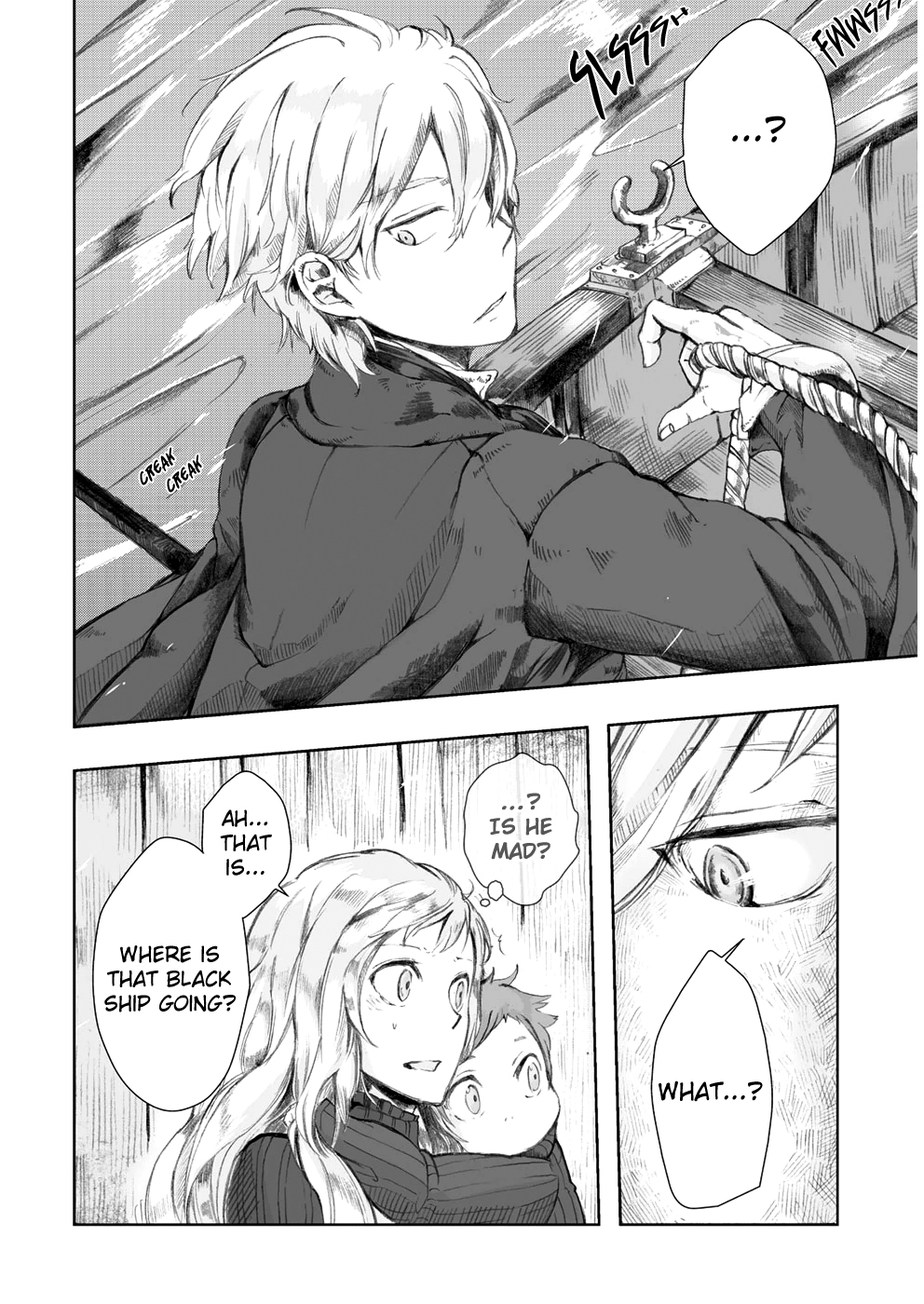bubble: (94, 837, 251, 1110), (663, 19, 836, 257), (651, 942, 772, 1211), (462, 752, 581, 907), (202, 772, 293, 920)
